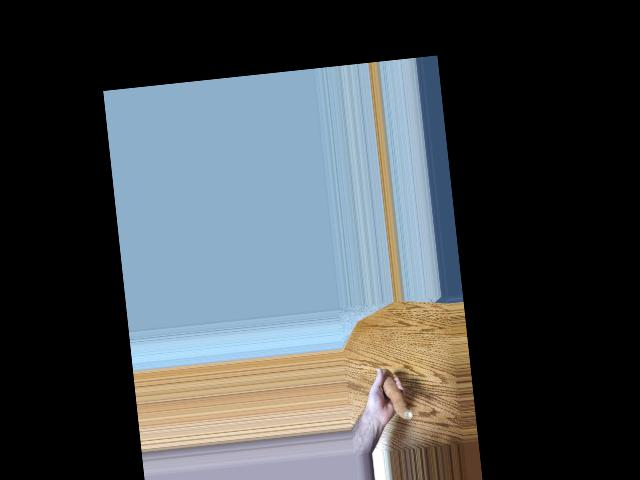sweet_potato: (378, 367, 412, 424)
